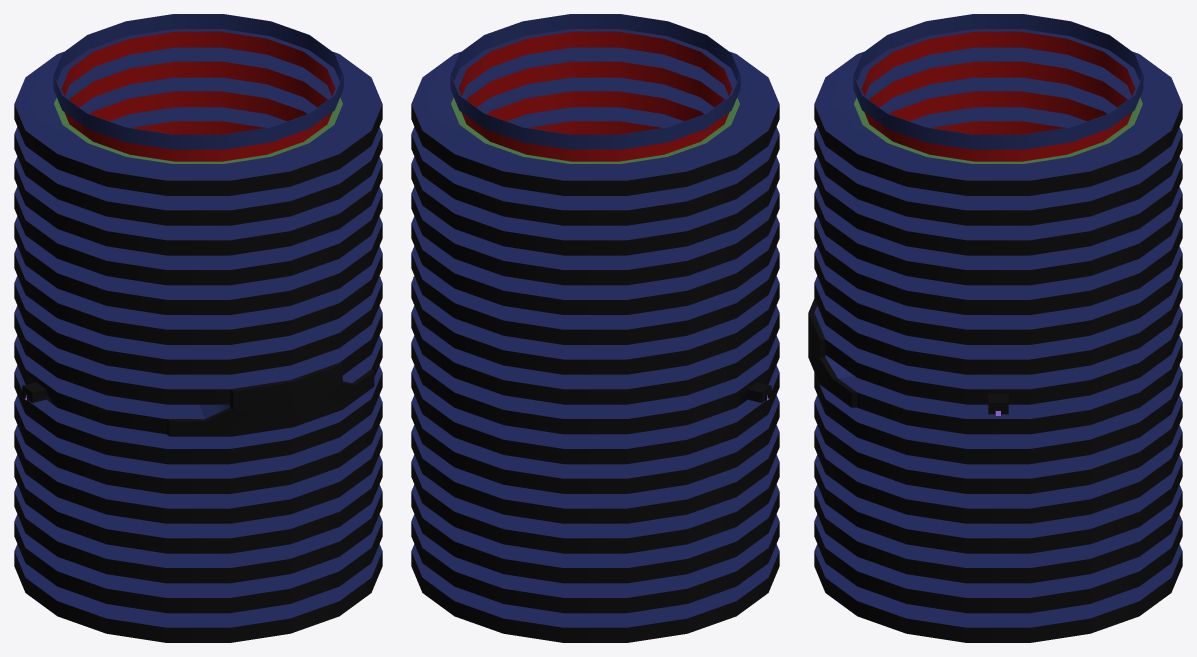
The model's file is SS Module Living Tube.FBX.
3 renders of one model, left to right at view 1: azimuth 30°, elevation 25°; view 2: azimuth 150°, elevation 25°; view 3: azimuth 270°, elevation 25°, orthographic.
Parts seen in each view (by area): view 1: Cylinder001; view 2: Cylinder001; view 3: Cylinder001.
Boxes of the visible parts, bbox=[...] form: Cylinder001: bbox=[14, 14, 382, 642]; Cylinder001: bbox=[411, 14, 779, 642]; Cylinder001: bbox=[808, 14, 1182, 642].
Size of the model in its own units: 304 by 417 by 279.
